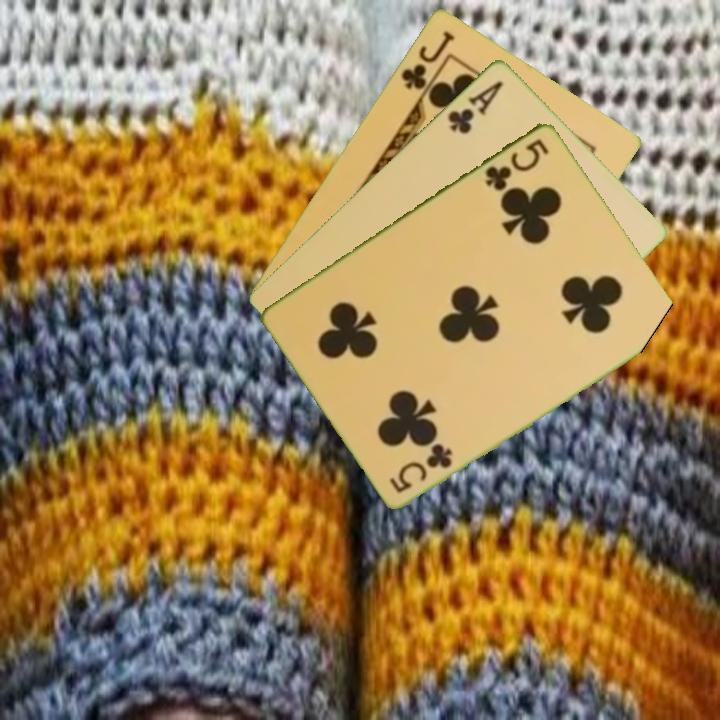5c: (481, 134, 552, 194), (386, 441, 456, 495)
Ac: (444, 76, 506, 137)
Jc: (397, 26, 458, 93)
